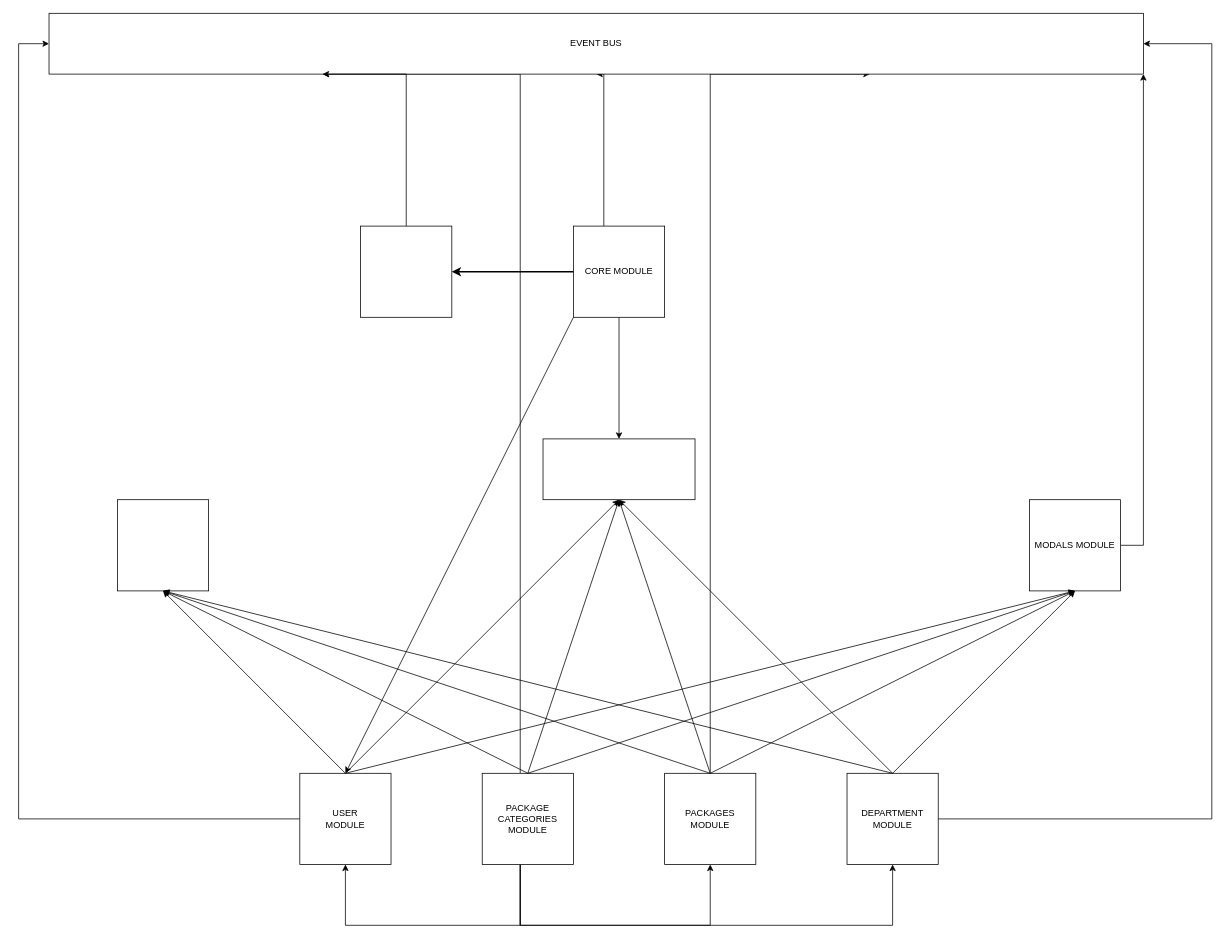
Image size: 1231x945. Some labels were removed from this diagram. Each missing label, with the centre of its shape:
"<<contract>> IModule - routes: IRoute[] - Providers: React.FC" belongs at point 618,469.
"AUTH MODULE" belongs at point 406,271.
"SHARED MODULE" belongs at point 163,545.
